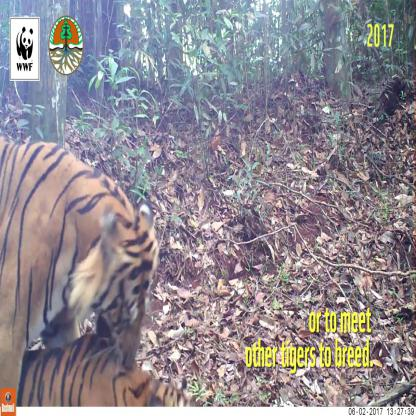Tiger: (0, 107, 185, 406)
